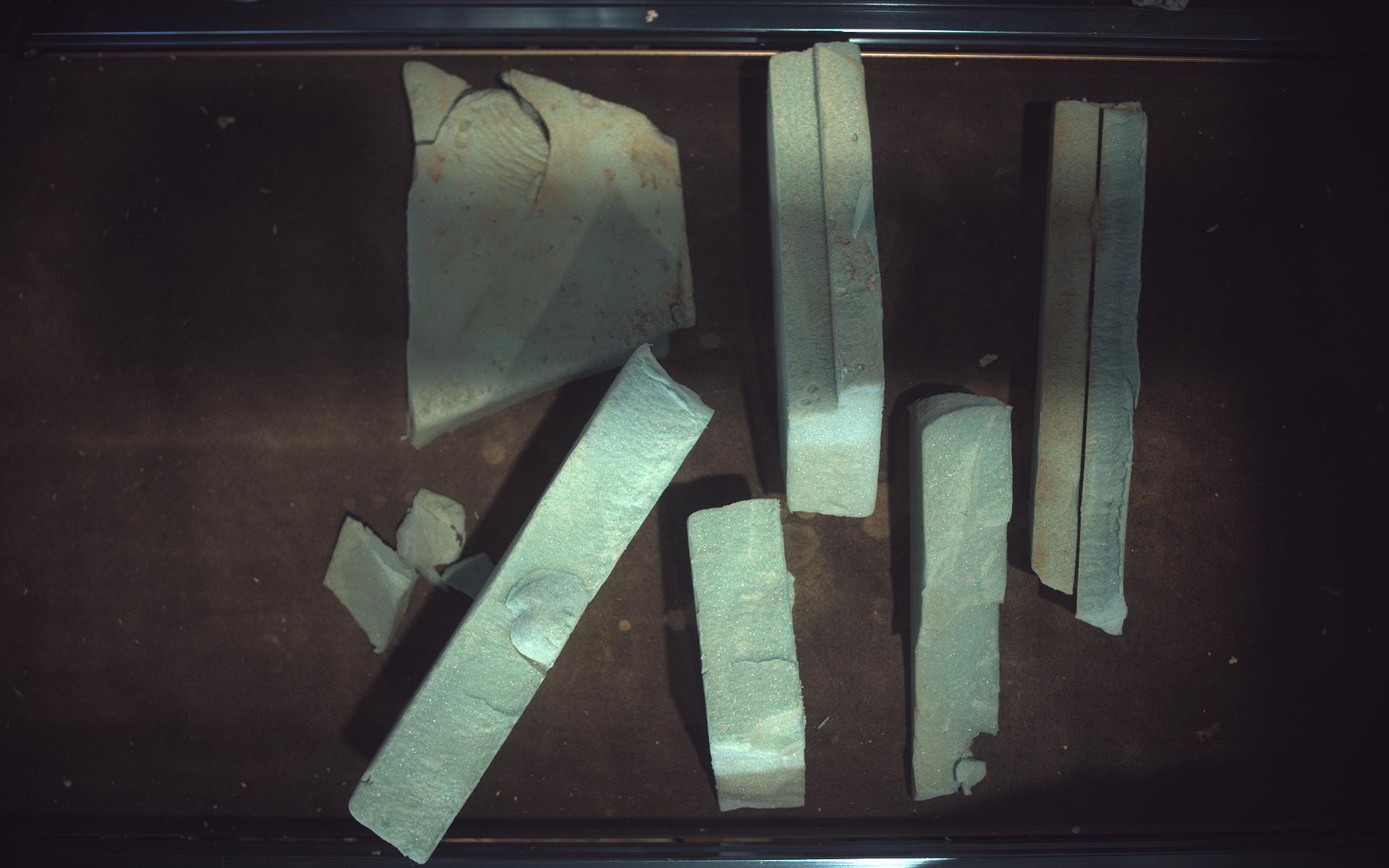foam: (349, 346, 712, 864), (404, 60, 694, 447), (1034, 99, 1150, 636), (770, 42, 886, 517), (912, 394, 1014, 801), (689, 499, 807, 813), (323, 516, 418, 655), (396, 489, 465, 585), (441, 553, 495, 599)
